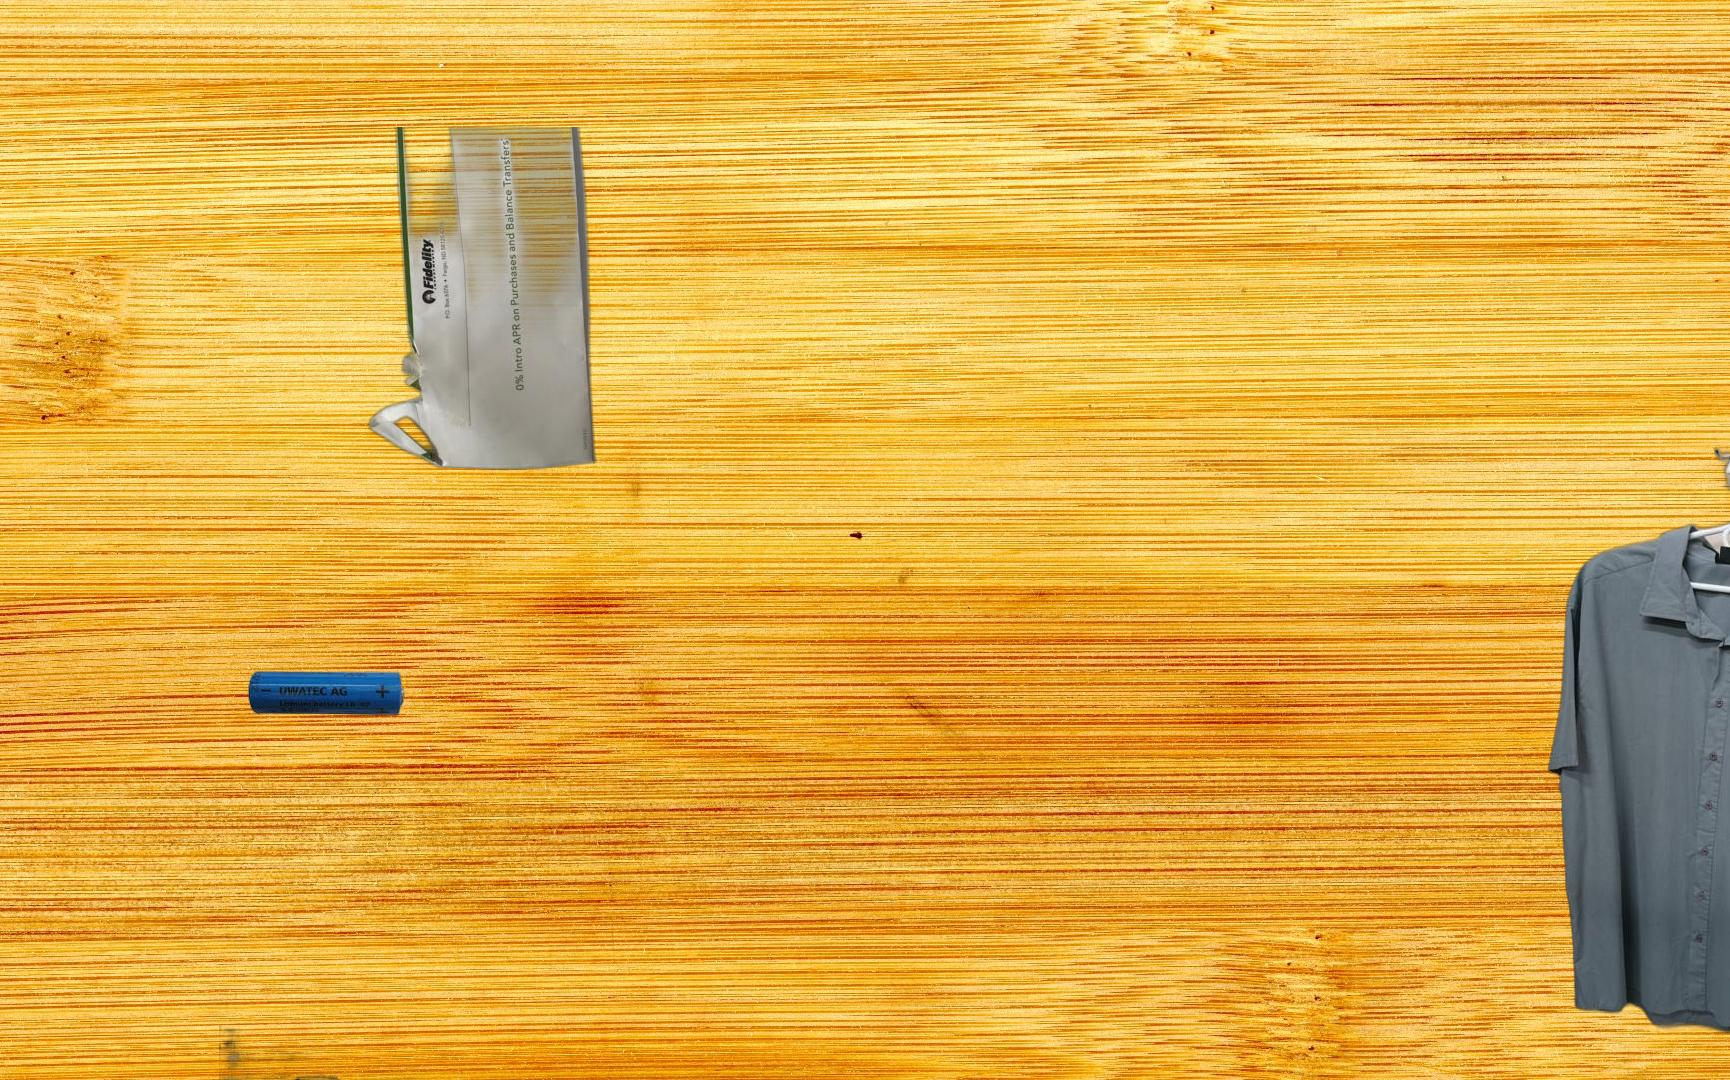battery: (246, 668, 407, 718)
clothes: (1543, 429, 1730, 1068)
paper: (364, 127, 601, 473)
trashbox-cardboard: (219, 895, 609, 1080)
